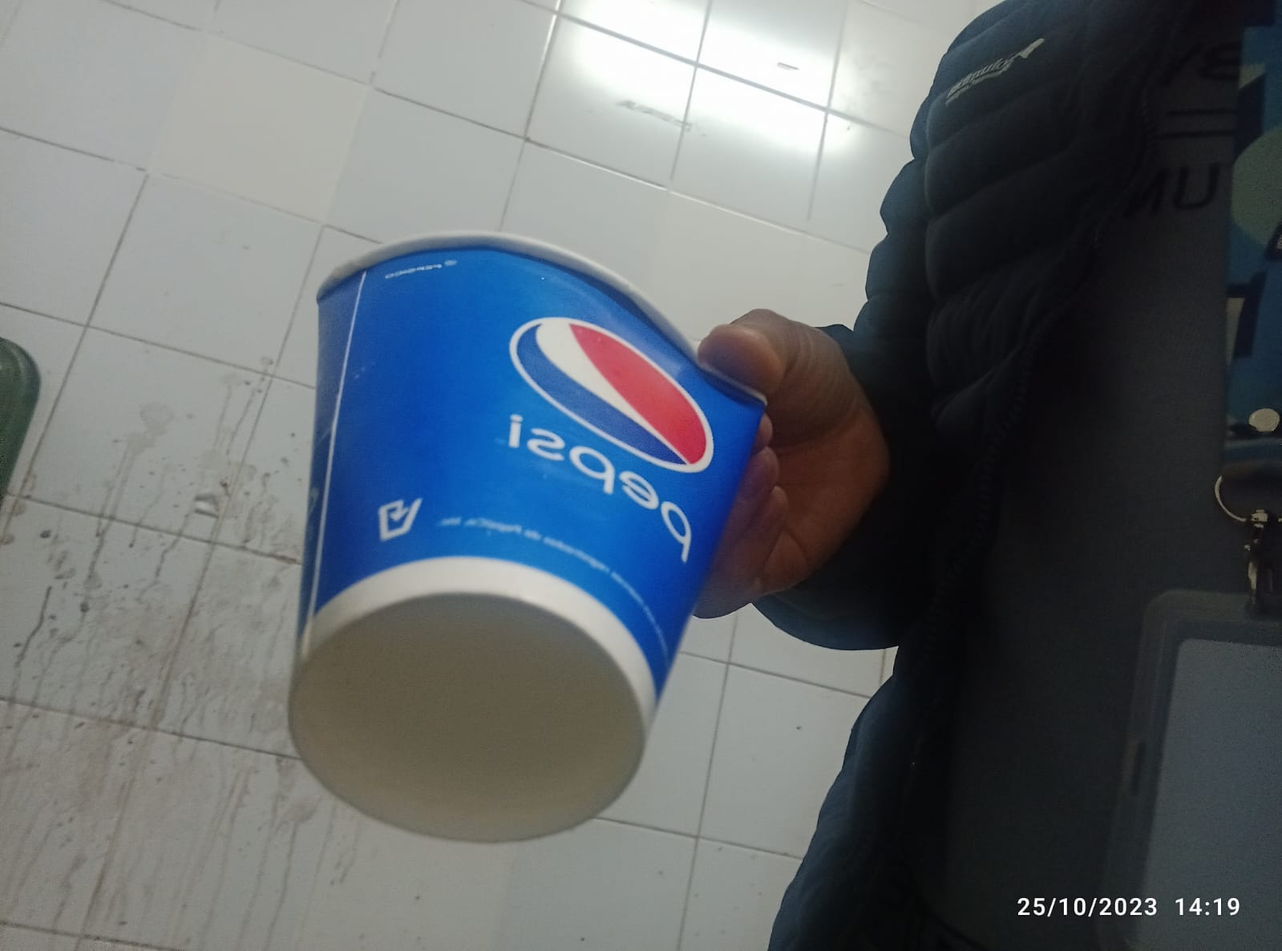Carton: (286, 229, 768, 842)
